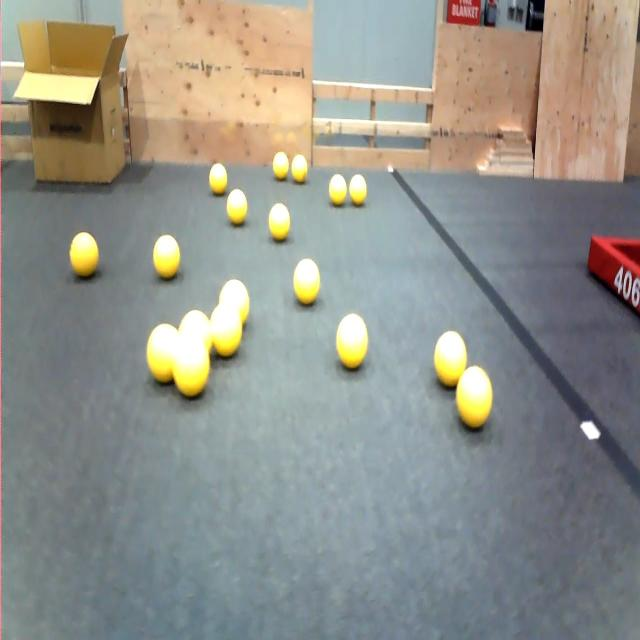fuel: (173, 333, 210, 398), (456, 366, 492, 429), (146, 324, 178, 383), (434, 331, 466, 387), (336, 314, 368, 369), (210, 304, 242, 358), (178, 310, 211, 351), (219, 280, 249, 325), (70, 232, 98, 278), (294, 258, 320, 305), (153, 235, 180, 279), (269, 203, 290, 241), (227, 189, 247, 225), (209, 163, 227, 195), (329, 175, 347, 206), (272, 151, 290, 181), (349, 175, 366, 206), (291, 154, 308, 184)
